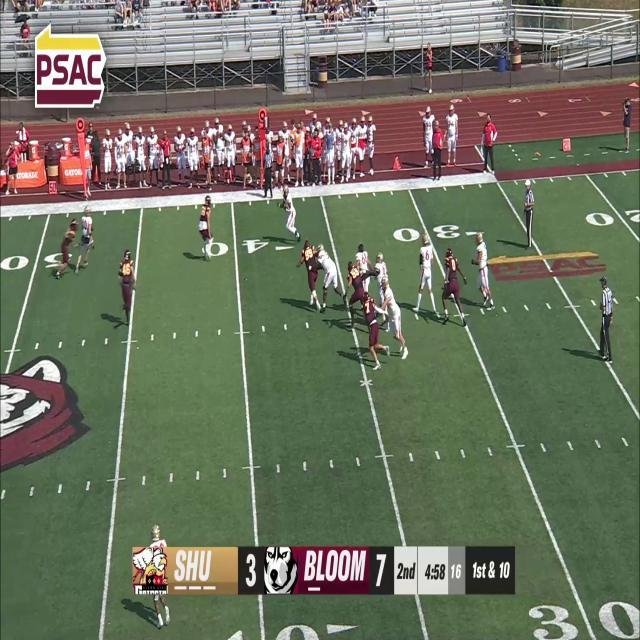football: (284, 202, 290, 212)
